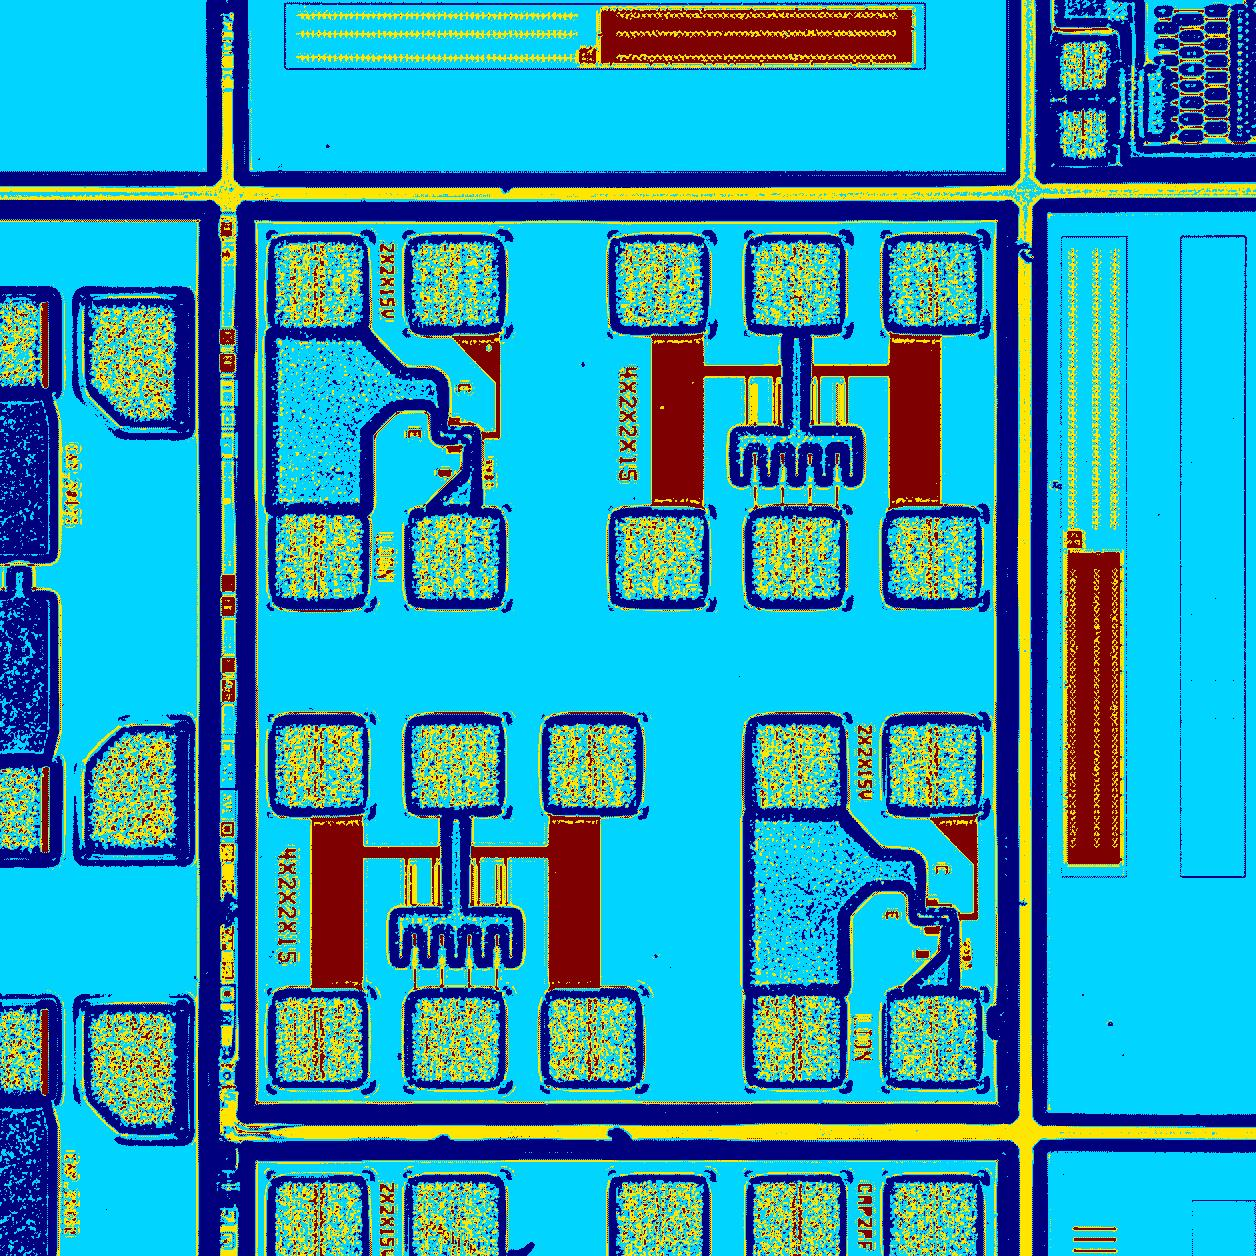Die: (236, 198, 1019, 1125), (275, 243, 363, 328), (275, 514, 362, 599), (890, 996, 977, 1081), (752, 996, 840, 1080), (276, 998, 362, 1081), (549, 998, 636, 1080), (412, 725, 497, 807), (413, 997, 498, 1080), (550, 725, 636, 806), (615, 516, 700, 598), (276, 726, 362, 806), (890, 726, 977, 806), (753, 518, 838, 598), (758, 725, 840, 807), (412, 244, 496, 324), (619, 244, 700, 326), (756, 244, 837, 324), (894, 244, 974, 324)
Pad 3: (413, 515, 499, 600), (890, 516, 977, 600)
